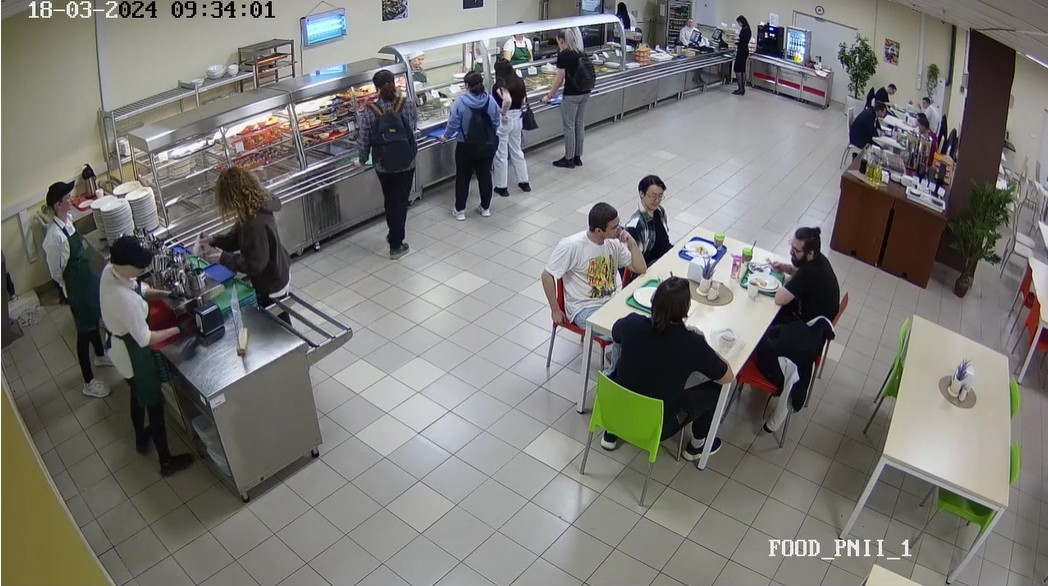Na_Kasse: (731, 9, 751, 100)
Personal: (97, 230, 182, 484), (42, 182, 103, 398), (604, 0, 643, 44), (406, 43, 436, 88), (459, 29, 488, 71), (673, 10, 703, 48), (502, 14, 529, 56)
Vybiraet: (203, 161, 311, 315), (343, 62, 424, 259), (442, 67, 499, 231), (547, 26, 595, 173), (489, 54, 535, 203)
Za_Stolom: (606, 263, 724, 449), (540, 197, 636, 388), (768, 222, 838, 330), (631, 170, 684, 249), (847, 99, 884, 149), (867, 73, 903, 114), (906, 109, 939, 147), (908, 86, 935, 120)
